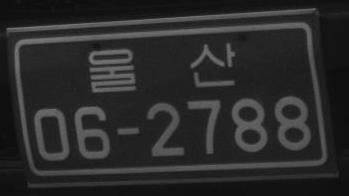-: (115, 124, 142, 138)
0: (31, 107, 71, 162)
2: (146, 100, 186, 158)
6: (73, 104, 111, 160)
7: (187, 98, 222, 154)
8: (273, 94, 313, 152), (231, 96, 268, 153)
울산_D: (87, 40, 237, 95)
